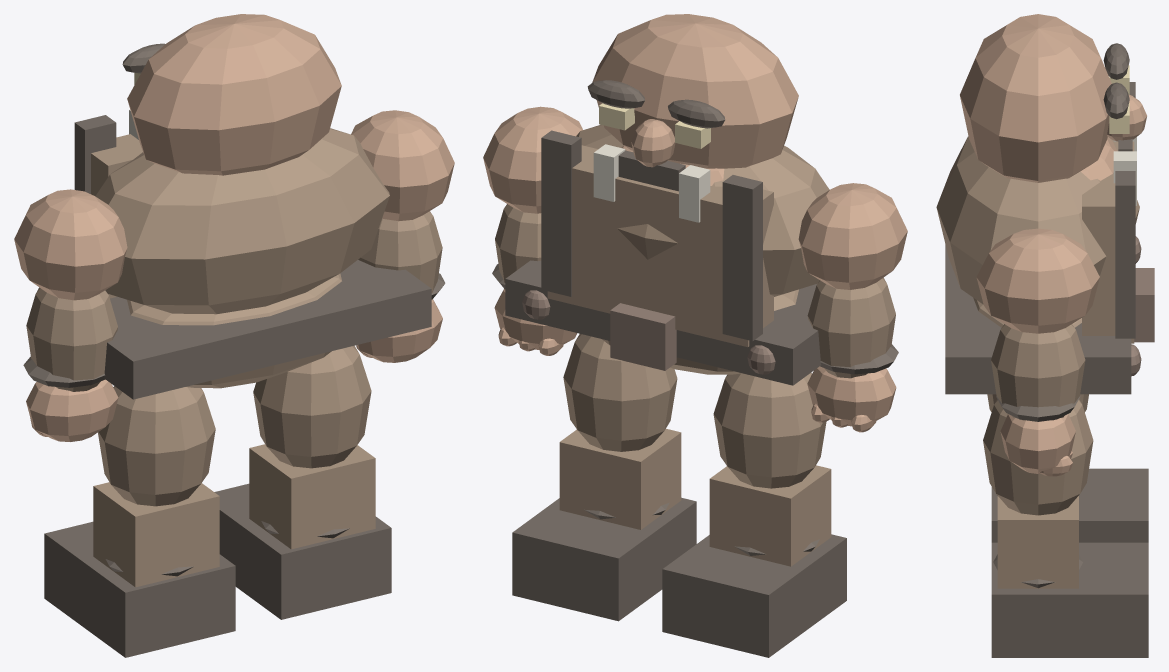
The model's file is brute.gltf.
3 views of the same model, side by side, from view 1: azimuth 30°, elevation 25°; view 2: azimuth 150°, elevation 25°; view 3: azimuth 270°, elevation 25° (orthographic). The views are drawn at different scales.
Parts seen in each view (by area): view 1: Part2, Part6, Part4, Part21, Part33, Part19, Part31, Part32, Part20, Part16, Part28, Part17 (+8 smaller); view 2: Part3, Part6, Part21, Part33, Part19, Part31, Part4, Part20, Part32, Part16, Part2, Part40 (+19 smaller); view 3: Part6, Part33, Part2, Part28, Part4, Part29, Part32, Part31, Part21, Part3, Part42, Part30 (+9 smaller).
Part boxes in pixels (<box>): Part2: <box>95,128,389,314</box>; Part6: <box>127,14,341,175</box>; Part4: <box>104,260,431,399</box>; Part21: <box>44,521,235,657</box>; Part33: <box>214,483,391,619</box>; Part19: <box>98,386,215,506</box>; Part31: <box>253,345,371,468</box>; Part32: <box>249,444,375,549</box>; Part20: <box>93,482,219,587</box>; Part16: <box>14,189,127,300</box>; Part28: <box>351,110,454,221</box>; Part17: <box>26,287,117,391</box>; Part3: <box>547,145,773,347</box>; Part6: <box>592,14,798,168</box>; Part21: <box>662,534,846,657</box>; Part33: <box>512,497,696,621</box>; Part19: <box>713,372,826,488</box>; Part31: <box>563,334,677,451</box>; Part4: <box>505,260,821,385</box>; Part20: <box>709,465,831,566</box>; Part32: <box>559,428,681,529</box>; Part16: <box>798,183,907,289</box>; Part2: <box>576,124,829,296</box>; Part40: <box>722,175,762,341</box>; Part6: <box>960,14,1111,182</box>; Part33: <box>991,542,1148,657</box>; Part2: <box>936,136,1139,304</box>; Part28: <box>976,228,1099,333</box>; Part4: <box>945,245,1131,394</box>; Part29: <box>991,324,1085,420</box>; Part32: <box>997,496,1078,588</box>; Part31: <box>983,399,1093,515</box>; Part21: <box>991,468,1148,542</box>; Part3: <box>1082,137,1134,343</box>; Part42: <box>1115,171,1135,338</box>; Part30: <box>1000,414,1075,473</box>.
Size of the model in its own units: 0.8125 by 1.08 by 0.375.
